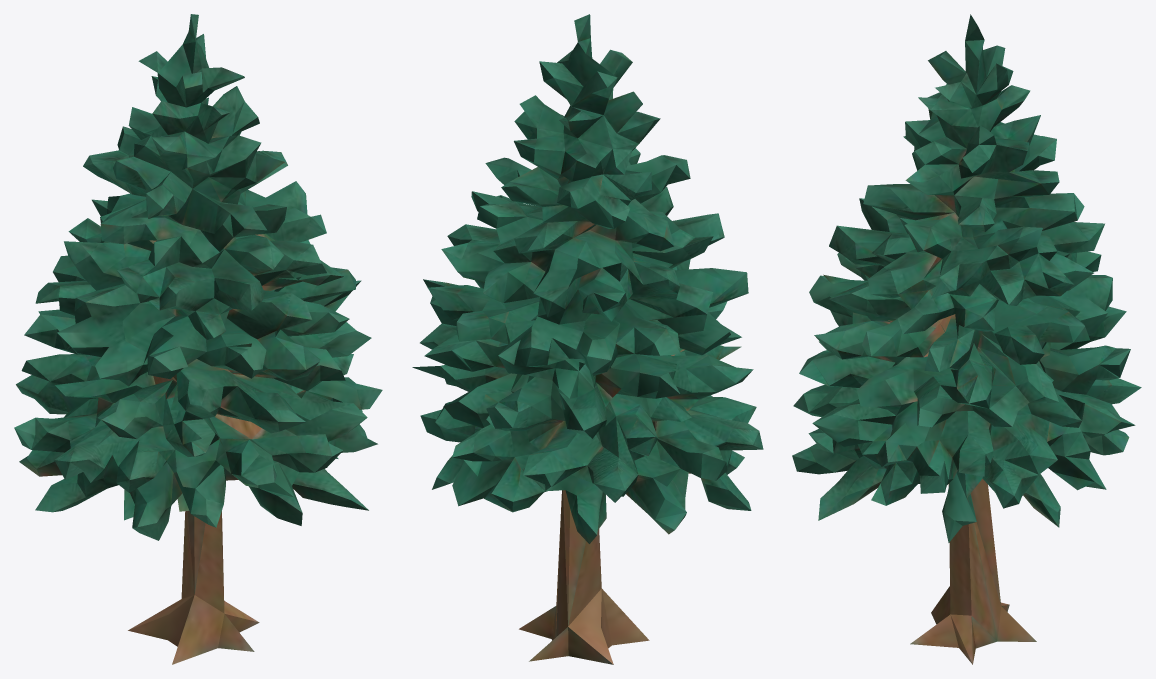
File: tree_pine.glb
3 renders of one model, left to right at view 1: azimuth 30°, elevation 25°; view 2: azimuth 150°, elevation 25°; view 3: azimuth 270°, elevation 25°, orthographic. The views are drawn at different scales.
Size of the model in its own units: 1.04 by 1.89 by 0.9699.
1 material, 1 textured.
